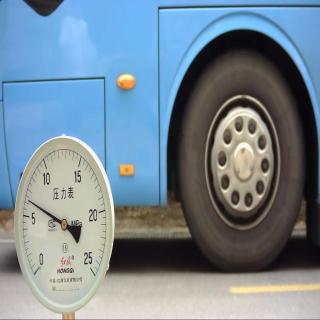gauge: (13, 133, 110, 317), (26, 251, 52, 281), (77, 255, 103, 281), (58, 217, 70, 232), (26, 198, 34, 205)
